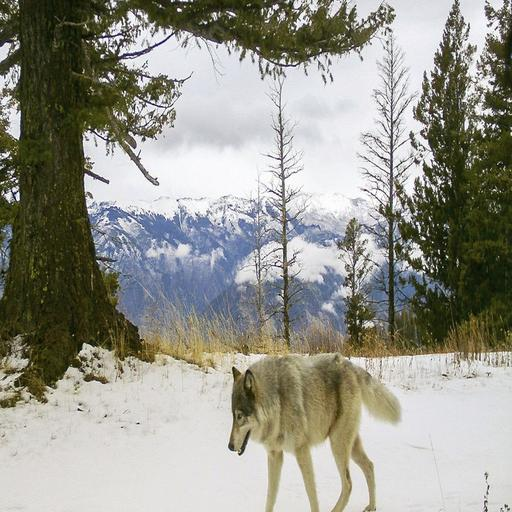Wolf: (226, 353, 409, 509)
